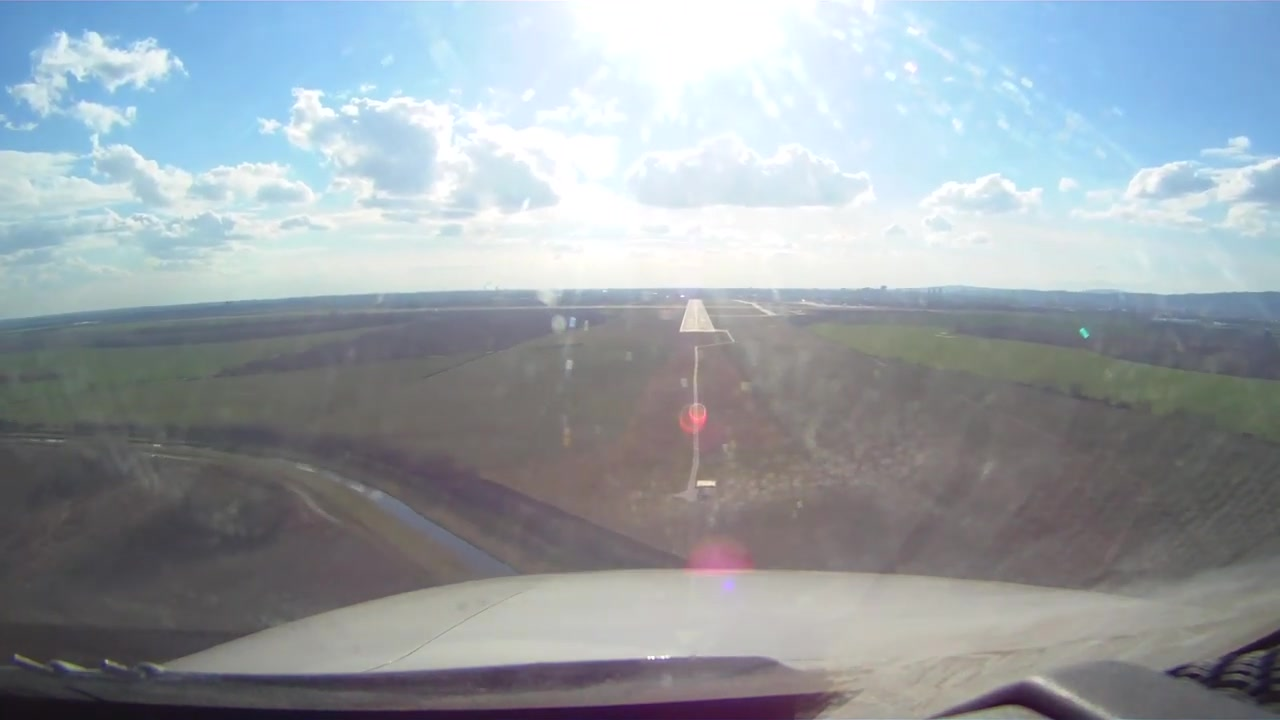runway: (678, 297, 716, 333)
